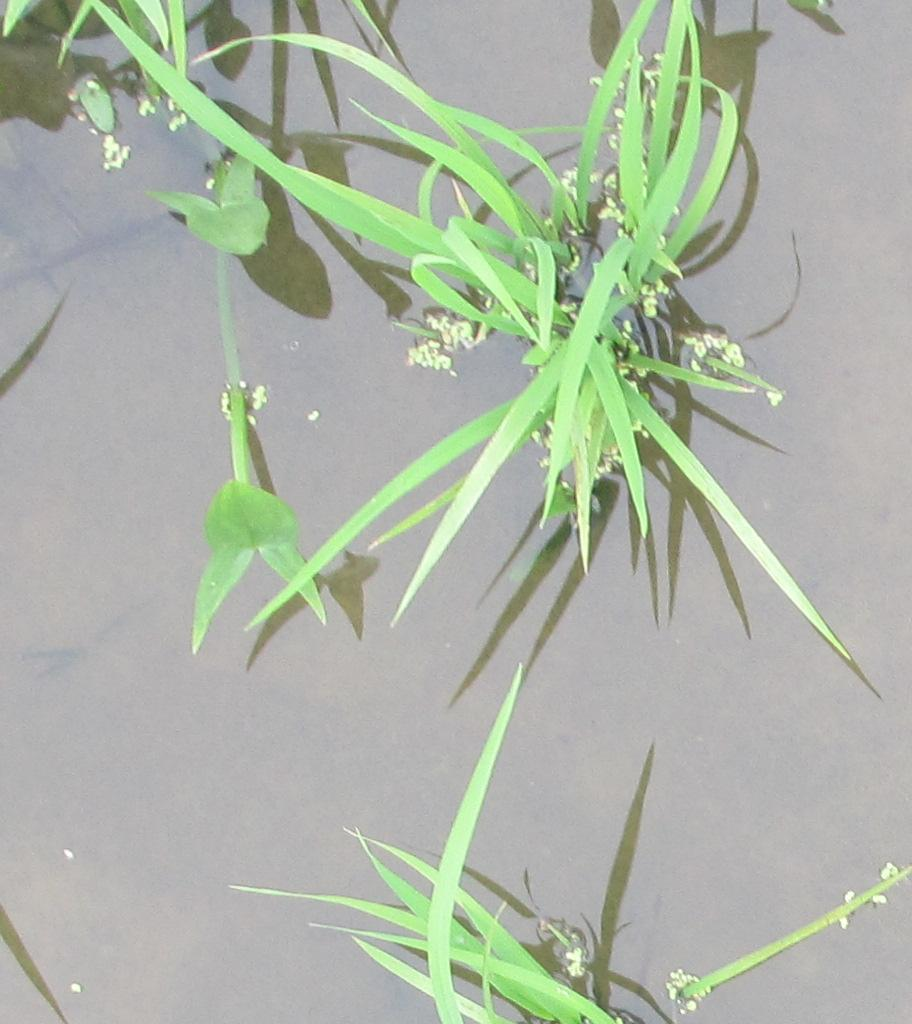Weed: (200, 480, 319, 625), (166, 157, 269, 253)
